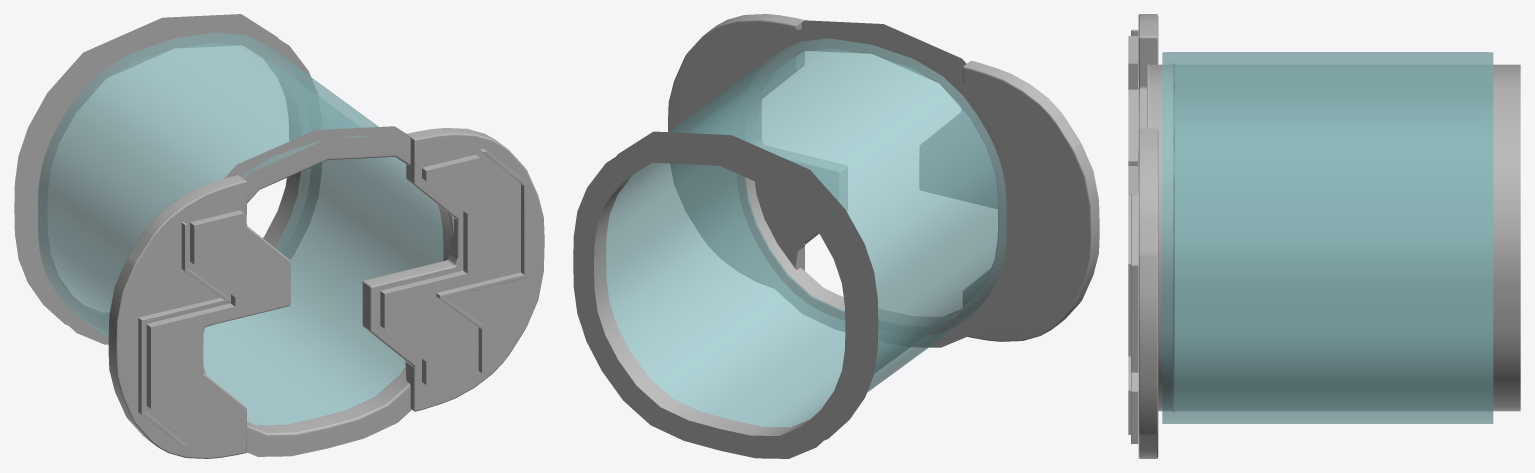
The model's file is door.fbx.
3 renders of one model, left to right at view 1: azimuth 30°, elevation 25°; view 2: azimuth 150°, elevation 25°; view 3: azimuth 270°, elevation 25°, orthographic. The views are drawn at different scales.
Visible parts, largest first — view 1: nurbsToPoly5, nurbsToPoly4, nurbsToPoly7, nurbsToPoly6, planarTrimmedSurface3, planarTrimmedSurface4, nurbsToPoly2, planarTrimmedSurface1, planarTrimmedSurface2; view 2: nurbsToPoly5, nurbsToPoly4, nurbsToPoly7, nurbsToPoly2, nurbsToPoly6; view 3: nurbsToPoly5, nurbsToPoly4, nurbsToPoly6, nurbsToPoly2, planarTrimmedSurface1, nurbsToPoly7, planarTrimmedSurface3, planarTrimmedSurface4.
Boxes of the visible parts, x1,y1,x2,y2 form: nurbsToPoly5: [38, 32, 443, 425]; nurbsToPoly4: [14, 14, 321, 344]; nurbsToPoly7: [108, 175, 290, 458]; nurbsToPoly6: [362, 128, 544, 411]; planarTrimmedSurface3: [146, 210, 285, 440]; planarTrimmedSurface4: [380, 154, 519, 384]; nurbsToPoly2: [203, 126, 453, 456]; planarTrimmedSurface1: [436, 148, 527, 373]; planarTrimmedSurface2: [138, 222, 229, 446]; nurbsToPoly5: [606, 38, 1006, 427]; nurbsToPoly4: [573, 131, 878, 458]; nurbsToPoly7: [919, 61, 1099, 341]; nurbsToPoly2: [725, 20, 1017, 347]; nurbsToPoly6: [668, 14, 847, 287]; nurbsToPoly5: [1162, 52, 1493, 423]; nurbsToPoly4: [1493, 64, 1520, 411]; nurbsToPoly6: [1138, 128, 1158, 458]; nurbsToPoly2: [1147, 62, 1174, 412]; planarTrimmedSurface1: [1131, 193, 1138, 443]; nurbsToPoly7: [1138, 14, 1158, 129]; planarTrimmedSurface3: [1128, 36, 1137, 165]; planarTrimmedSurface4: [1128, 166, 1137, 434].
Bounding box in the file's own units: 20.26 × 13.99 × 14.24.
